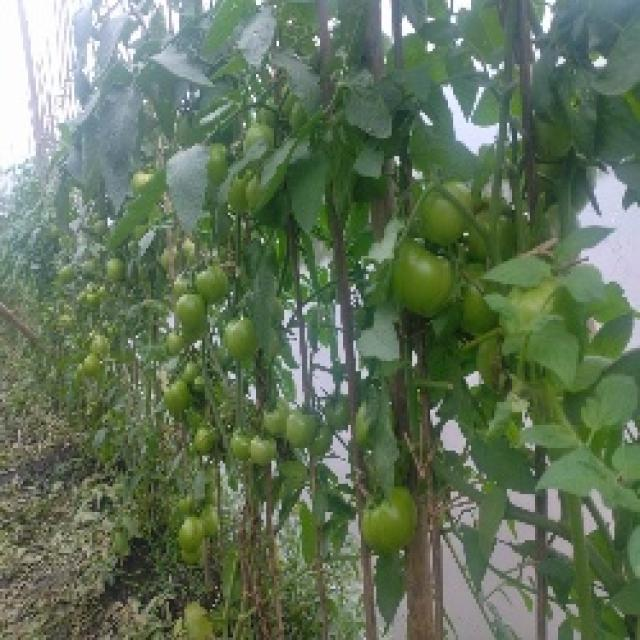tomato: (356, 495, 435, 562), (397, 248, 461, 322), (409, 179, 474, 243), (450, 263, 503, 336), (225, 314, 262, 372), (283, 405, 320, 452), (172, 295, 208, 343), (320, 389, 358, 433), (197, 265, 230, 310), (165, 377, 193, 425), (235, 121, 279, 151), (124, 162, 164, 194), (262, 399, 289, 445), (177, 512, 204, 551), (98, 258, 133, 287), (226, 174, 246, 223), (80, 288, 116, 313), (189, 427, 215, 461), (211, 137, 234, 175), (230, 430, 255, 463), (252, 438, 278, 469), (88, 335, 118, 359), (190, 375, 219, 399), (76, 353, 109, 374), (307, 423, 333, 446), (61, 261, 83, 287), (196, 502, 216, 529), (57, 306, 80, 329), (177, 360, 195, 380), (179, 271, 186, 300)
